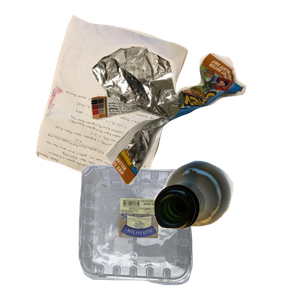glass: (151, 158, 300, 300)
paper: (33, 12, 214, 192)
plastic: (76, 162, 264, 300)
trash: (88, 42, 300, 219)
